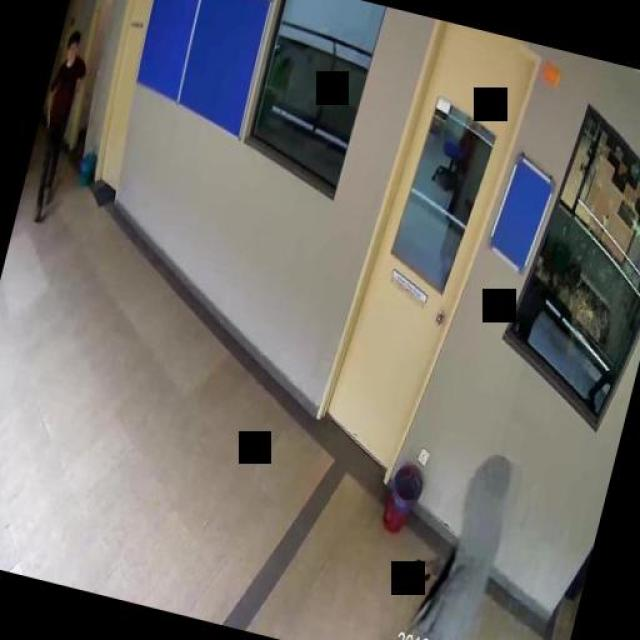gun: (391, 552, 431, 592)
